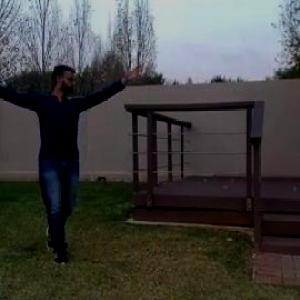takeoff: (0, 63, 144, 262)
